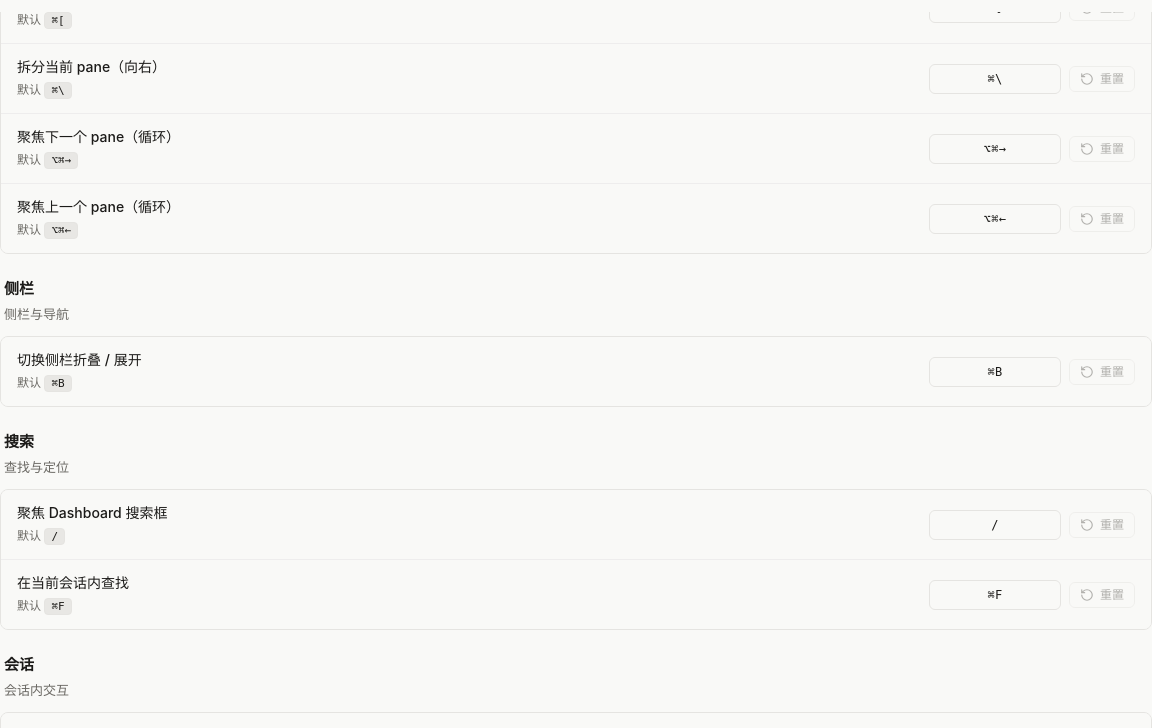
KeyboardShortcutsPanel › 录键 commit 后 pending bar 渲染 + 含 '未保存改动'
(page scrolled)
在 sidebar.toggle 行的录键器上模拟 focus + 完整组合键
Focus the button "⌘B" at (995, 372), box x1=929 y1=357 x2=1061 y2=387
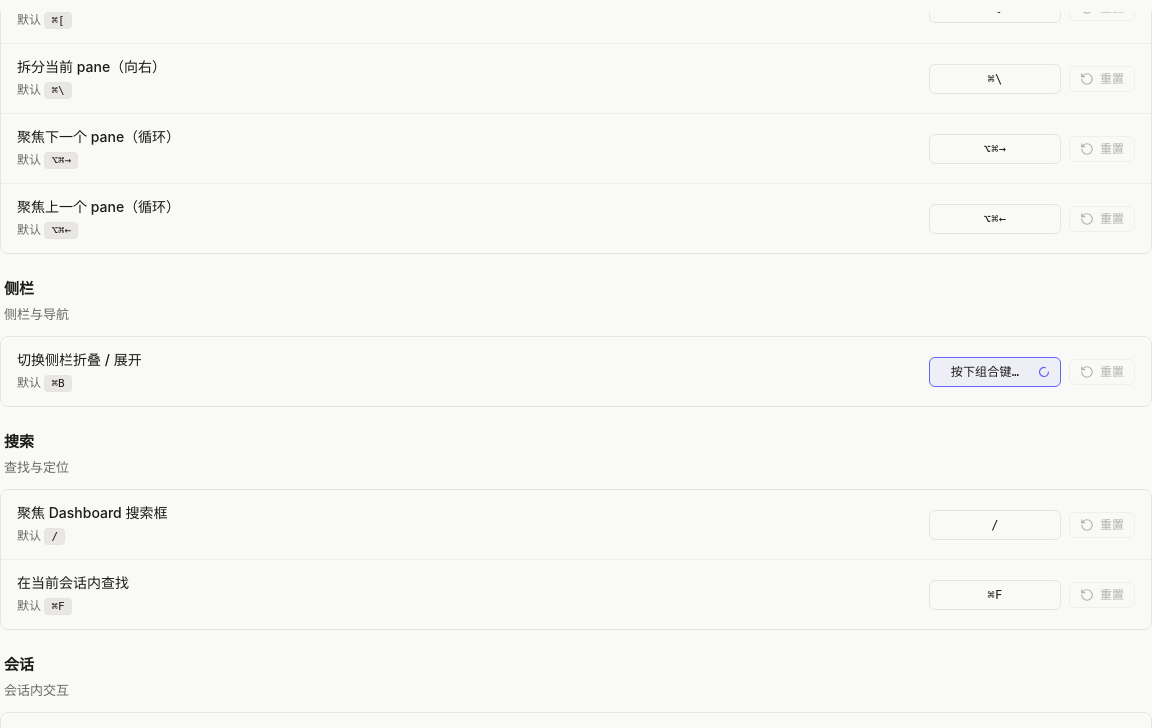
Press x in the button "按下组合键…", box x1=929 y1=357 x2=1061 y2=387
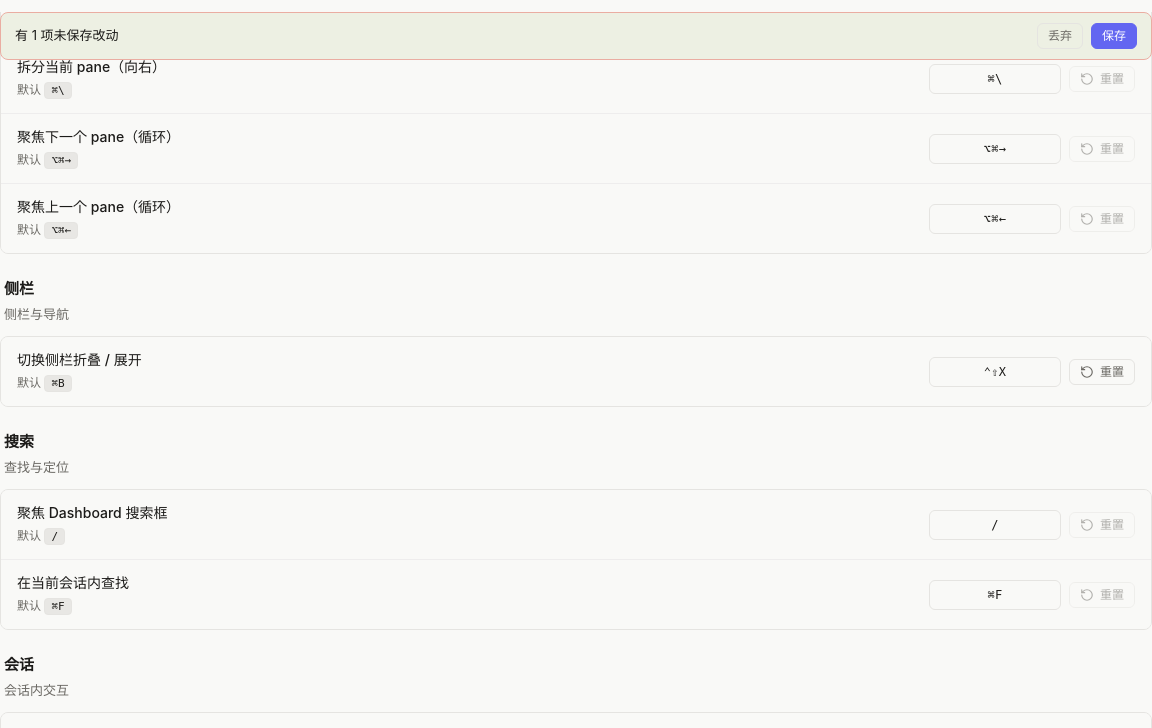
Check: the message "有 1 项未保存改动 丢弃 保存" is shown, box x1=0 y1=12 x2=1151 y2=60
